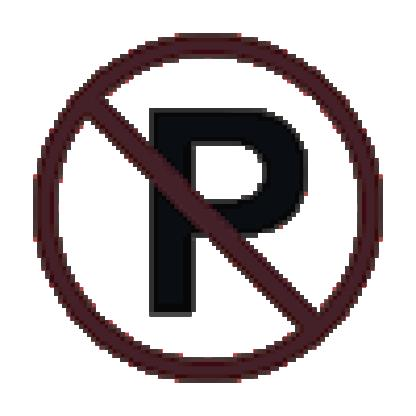No parking: (21, 32, 389, 386)
